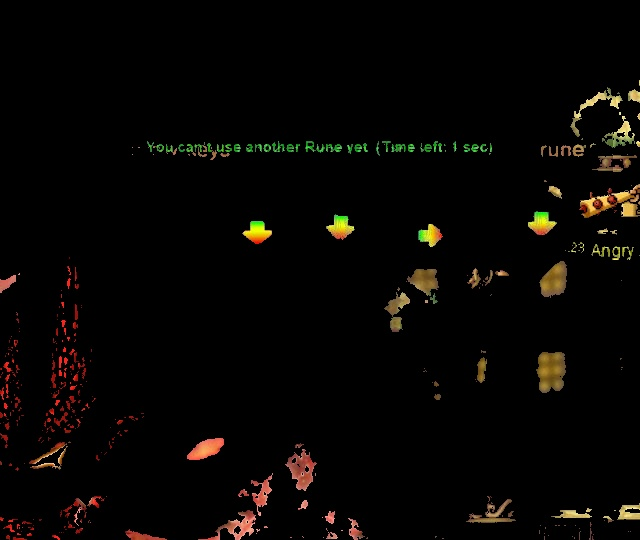rune_box: (171, 181, 586, 278)
